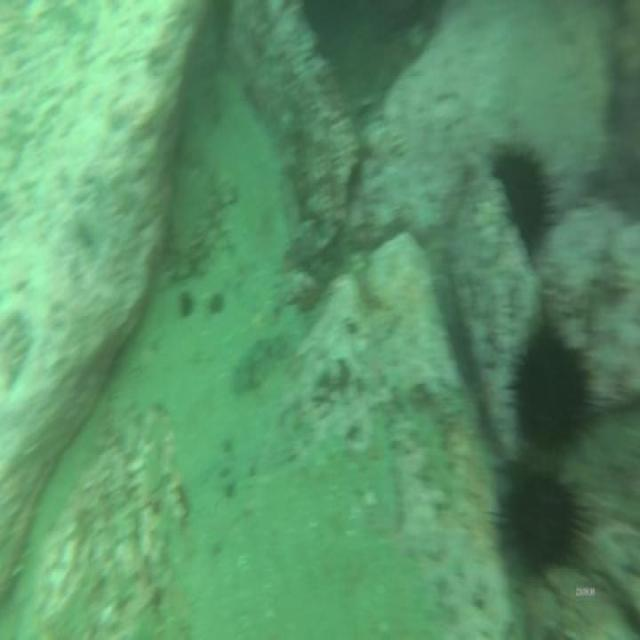echinus: (497, 303, 603, 468), (486, 463, 593, 594), (488, 138, 561, 259)
